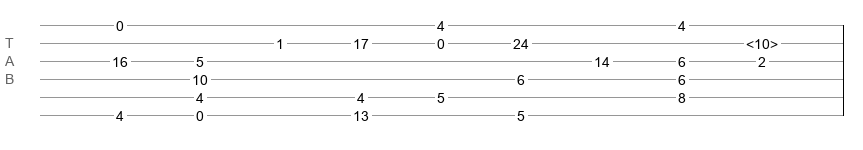0: (116, 18, 124, 28), (196, 108, 204, 118), (437, 36, 445, 46)
1: (276, 36, 284, 46)
10: (192, 72, 208, 82)
13: (353, 108, 369, 118)
14: (594, 54, 610, 64)
16: (112, 54, 128, 64)
17: (353, 36, 369, 46)
2: (758, 54, 766, 64)
24: (513, 36, 529, 46)
4: (116, 108, 124, 118), (196, 90, 204, 100), (357, 90, 365, 100), (437, 18, 445, 28), (678, 18, 686, 28)
5: (196, 54, 204, 64), (437, 90, 445, 100), (517, 108, 525, 118)
6: (517, 72, 525, 82), (678, 54, 686, 64), (678, 72, 686, 82)
8: (678, 90, 686, 100)
harmonic: (746, 36, 778, 46)
